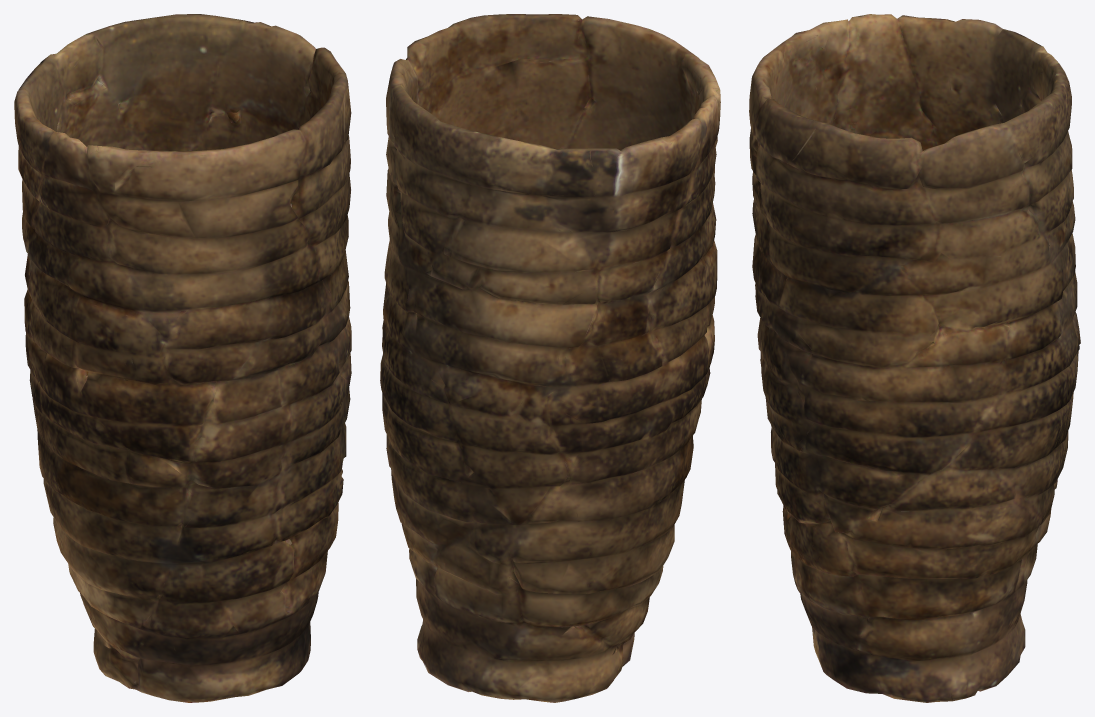
The picture shows the model from 3 angles, left to right: view 1: azimuth 30°, elevation 25°; view 2: azimuth 150°, elevation 25°; view 3: azimuth 270°, elevation 25°; orthographic projection.
Visible parts, largest first — view 1: SB0004_low; view 2: SB0004_low; view 3: SB0004_low.
Boxes of the visible parts, <box> form: SB0004_low: <box>14,14,351,702</box>; SB0004_low: <box>380,14,720,702</box>; SB0004_low: <box>749,14,1080,702</box>.
Bounding box in the file's own units: 80.57 × 156 × 80.39.
1 material, 1 textured.
